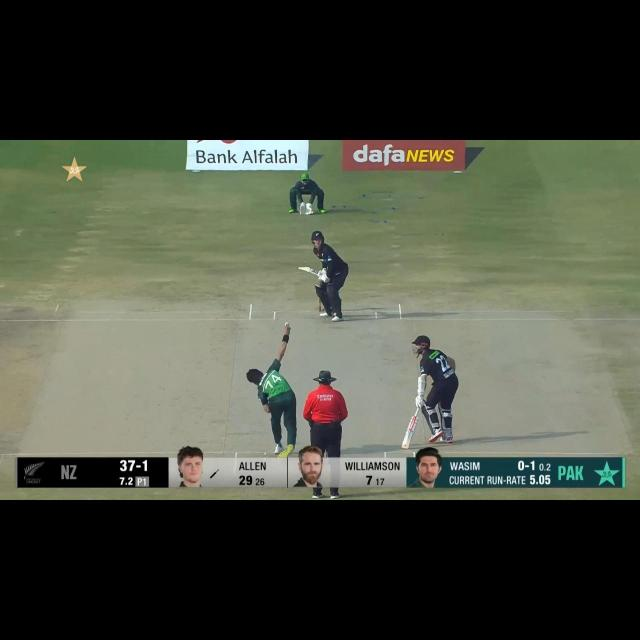bat: (399, 416, 418, 450), (297, 265, 318, 276)
toe: (399, 444, 410, 451), (297, 264, 304, 272)
